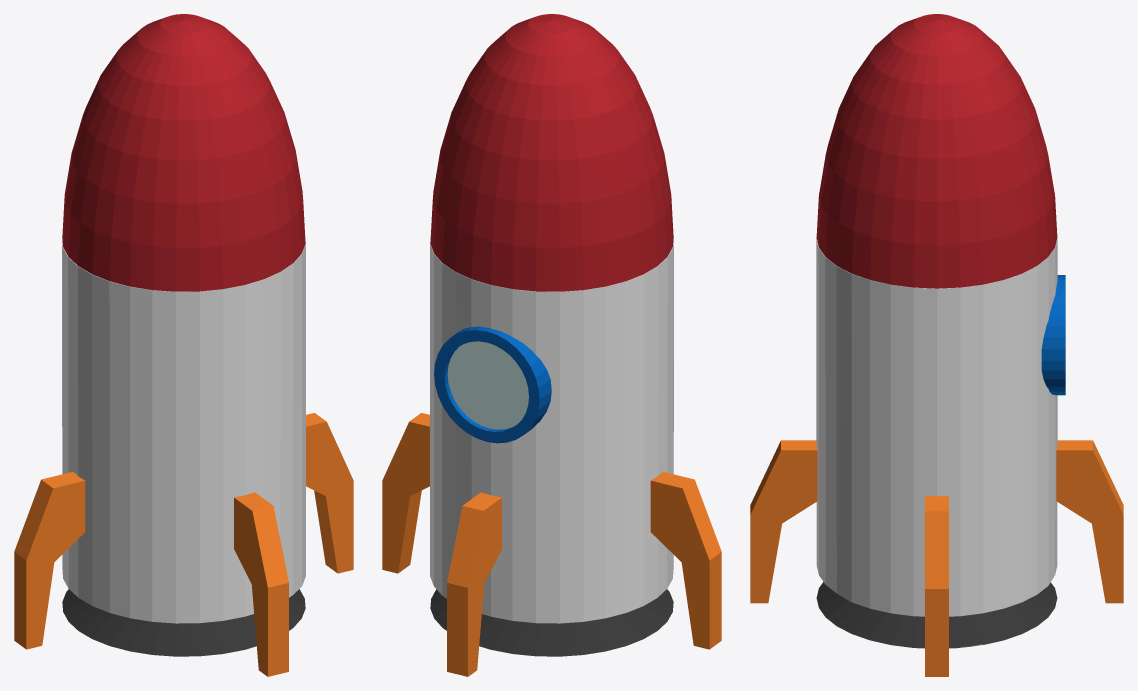
The model's file is rocket.obj.
3 renders of one model, left to right at view 1: azimuth 30°, elevation 25°; view 2: azimuth 150°, elevation 25°; view 3: azimuth 270°, elevation 25°, orthographic.
Visible parts, largest first — view 1: ロケット; view 2: ロケット; view 3: ロケット.
Part boxes in pixels (x1,y1,x2,y2): ロケット: (14, 14, 353, 676); ロケット: (382, 14, 721, 676); ロケット: (750, 14, 1123, 676).
Size of the model in its own units: 3.1 by 5.3 by 3.1.
Materials: 1 (1 with a texture image).
